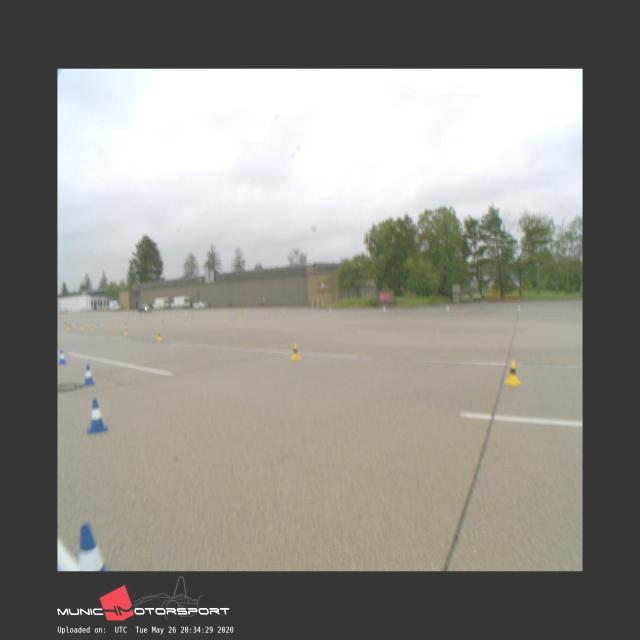blue_cone: (88, 399, 108, 433), (82, 366, 95, 386), (58, 350, 66, 364)
yellow_cone: (504, 361, 520, 386), (290, 344, 300, 359)
